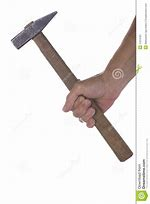hammer: (10, 8, 136, 164)
